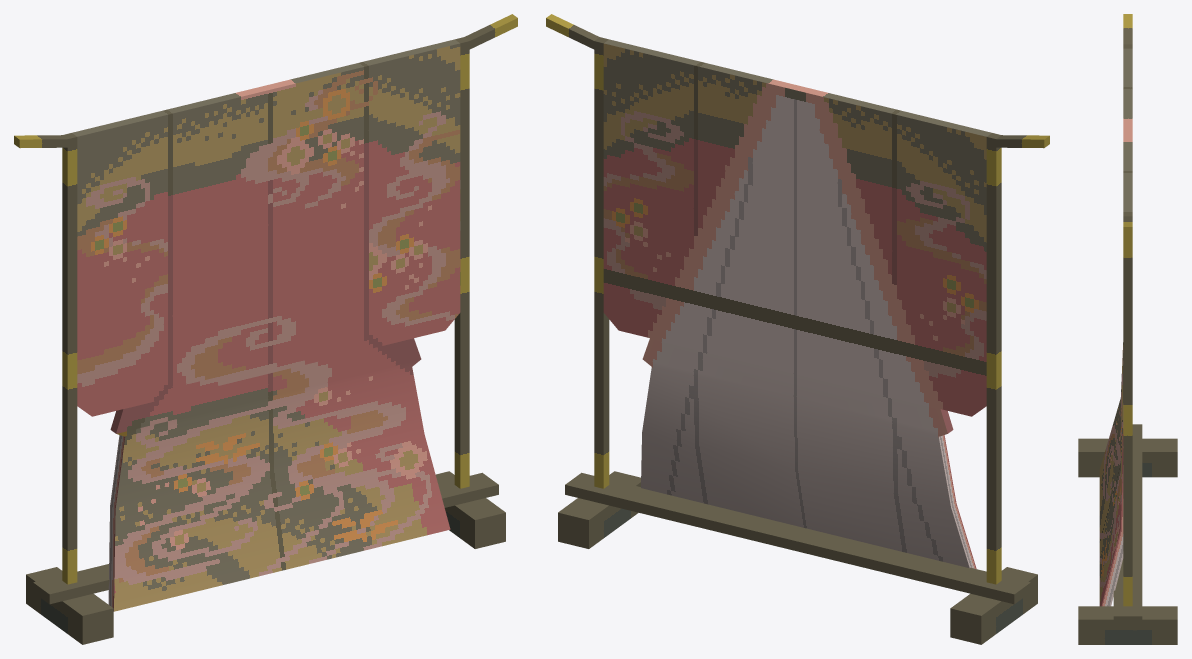
Rendered from 02c3_Kimono.glb.
The picture shows the model from 3 angles, left to right: view 1: azimuth 30°, elevation 25°; view 2: azimuth 150°, elevation 25°; view 3: azimuth 270°, elevation 25°; orthographic projection. The views are drawn at different scales.
Visible parts, largest first — view 1: part_0; view 2: part_0; view 3: part_0.
Boxes of the visible parts, x1=… form: part_0: x1=14, y1=14, x2=517, y2=644; part_0: x1=546, y1=14, x2=1049, y2=644; part_0: x1=1078, y1=14, x2=1177, y2=644.
Size of the model in its own units: 1.83 by 1.74 by 0.36.
Materials: 1 (1 with a texture image).
